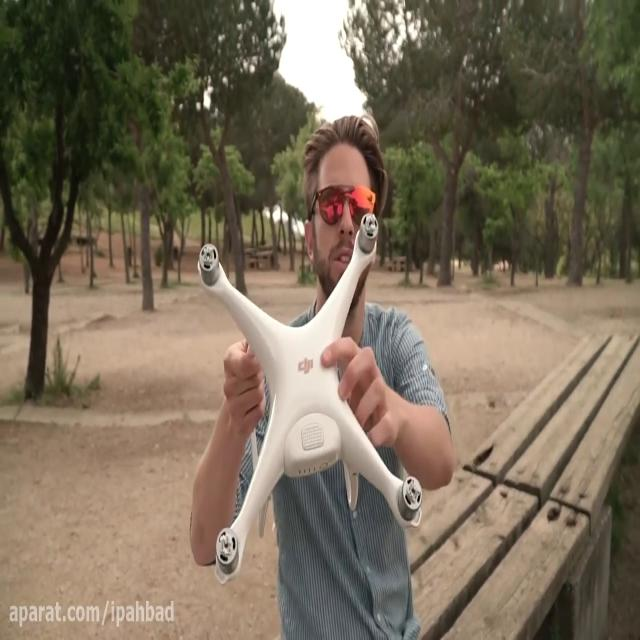drone: (195, 209, 423, 586)
